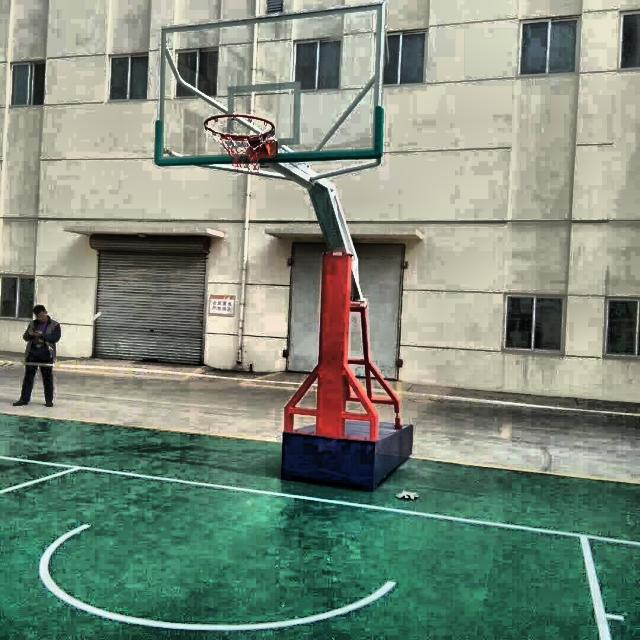rim: (203, 112, 276, 172)
